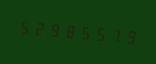eight: (62, 18, 76, 43)
five: (77, 19, 91, 45), (17, 14, 31, 39), (92, 21, 106, 46)
nine: (122, 23, 136, 49), (47, 17, 61, 42)
seven: (107, 22, 121, 47)
two: (32, 16, 46, 41)
